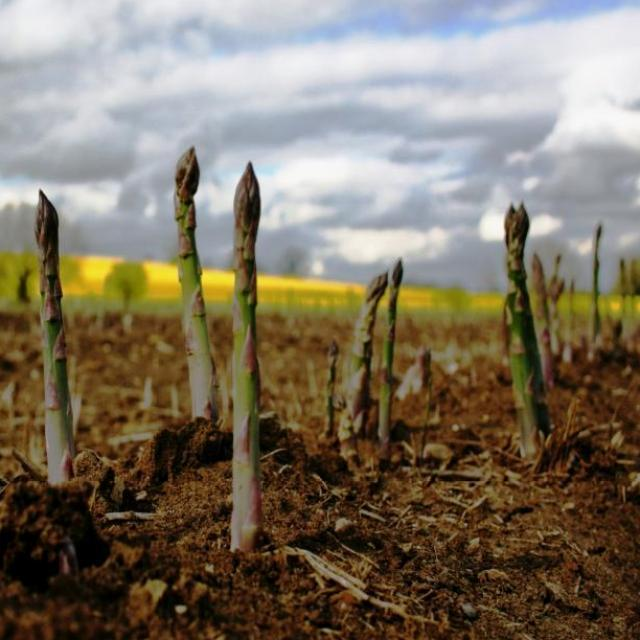aspargus: (230, 163, 262, 555), (35, 192, 74, 489), (174, 148, 212, 422)
